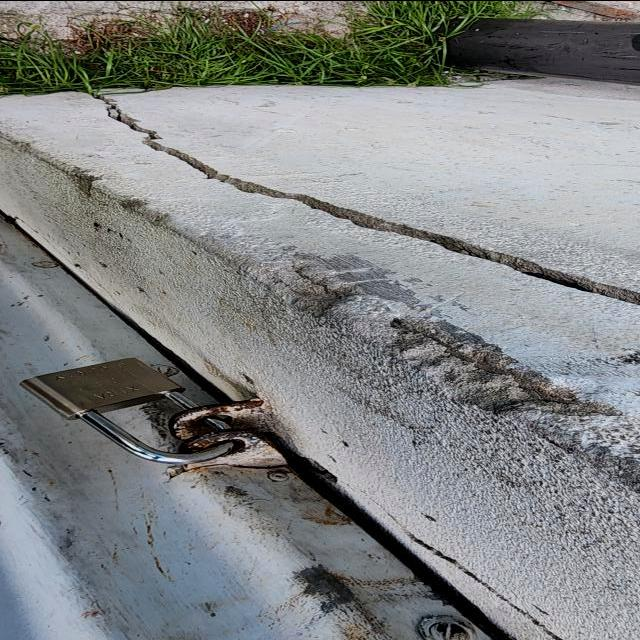SurfaceCrack: (8, 219, 640, 640), (1, 89, 640, 343)
